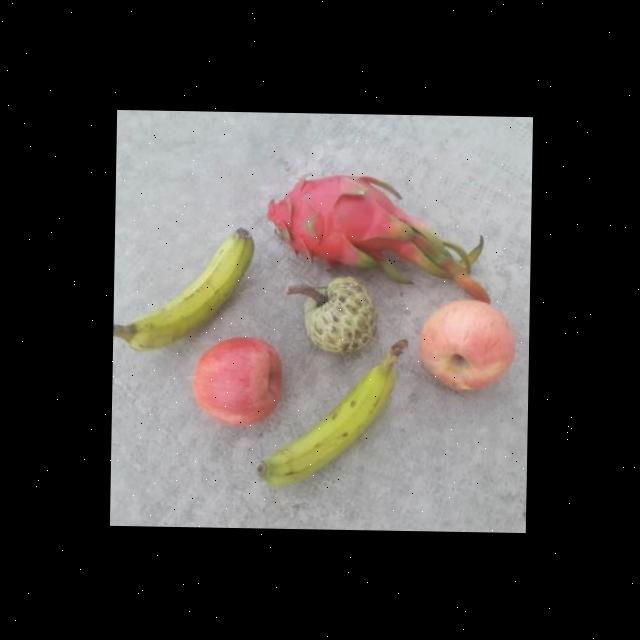Sakya fruit: (284, 272, 378, 352)
apple: (180, 333, 282, 438), (415, 294, 515, 391)
banana: (254, 335, 408, 488), (112, 224, 256, 350), (264, 168, 406, 272)
